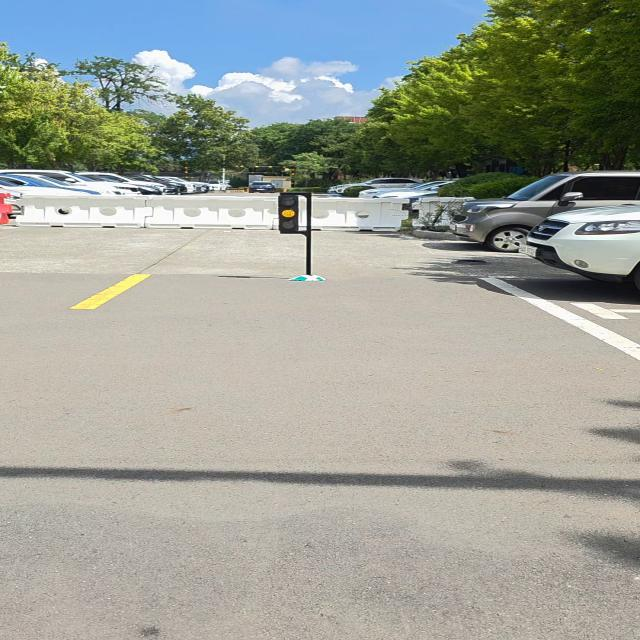yellow: (276, 194, 302, 235)
